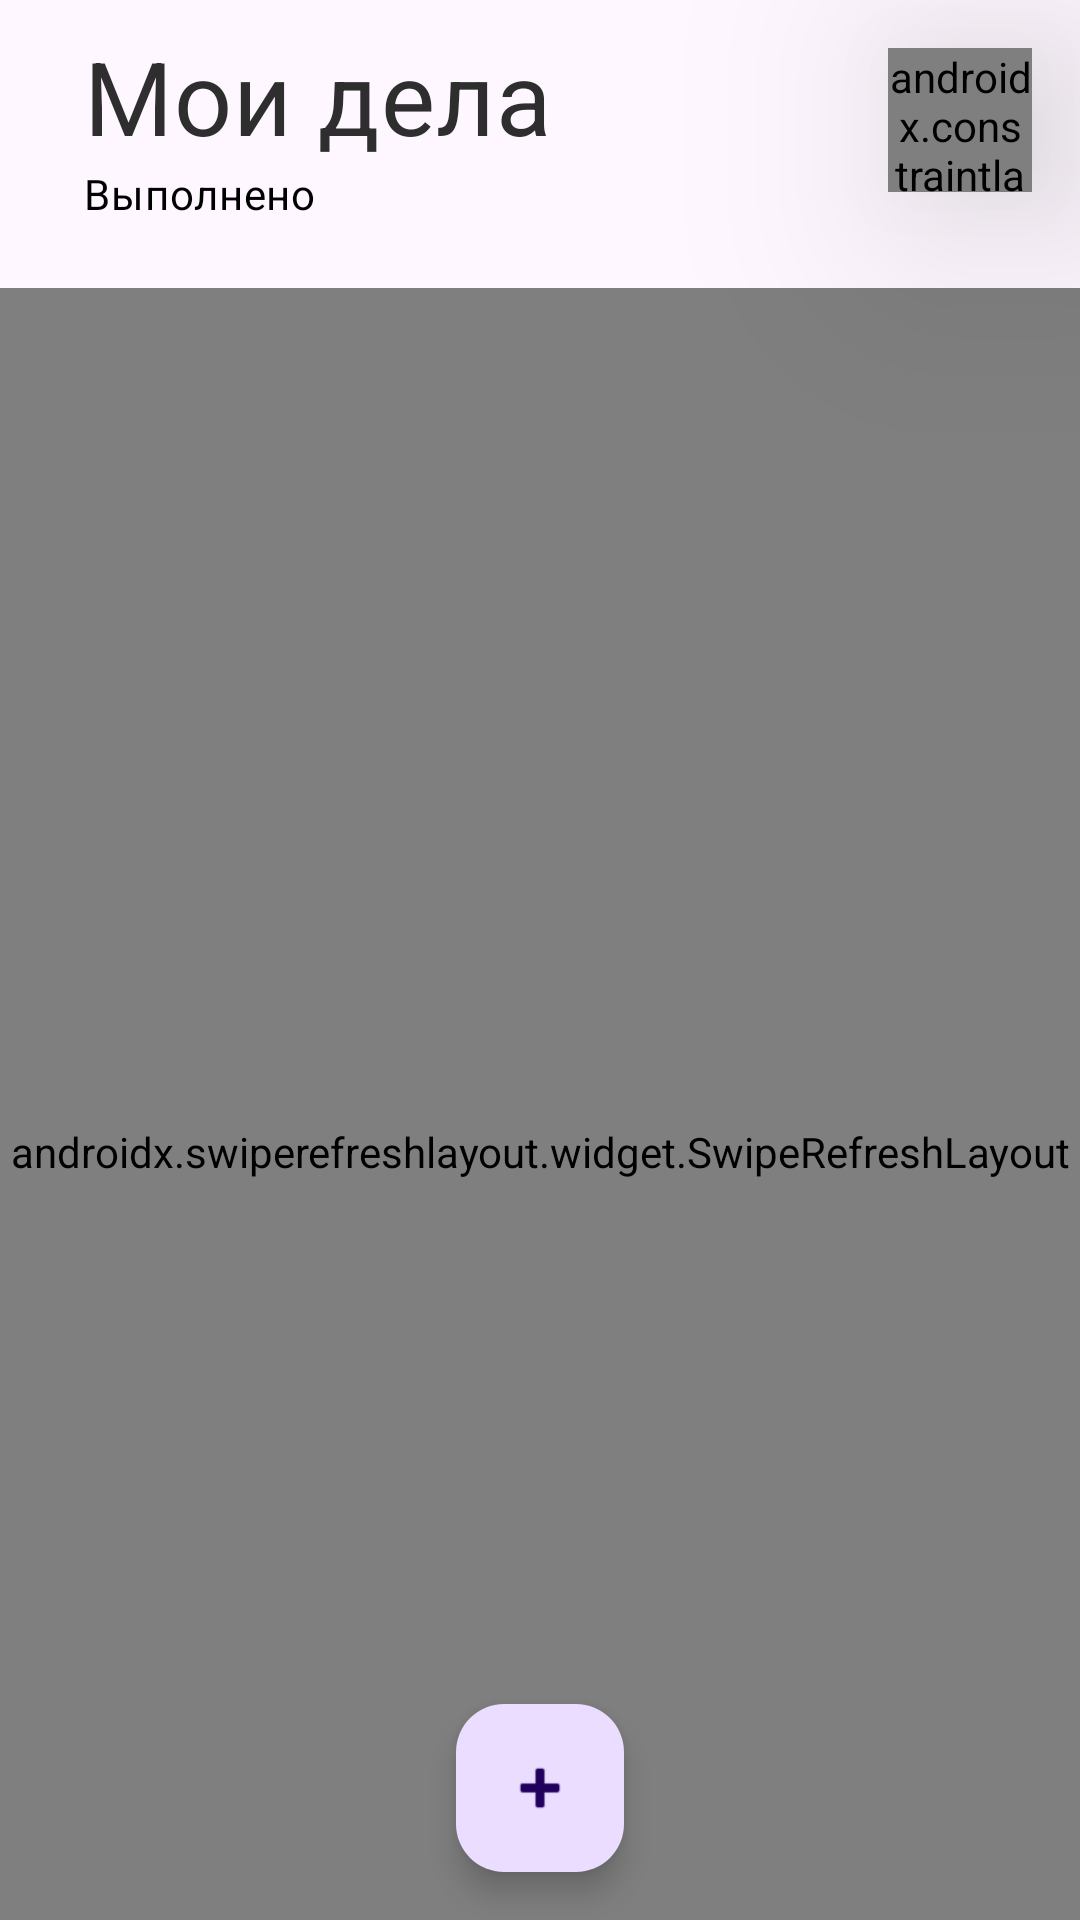

Named icons in this screenshot (1080w x 1920h) and their centers, [x,y]:
Добавить новую задачу: [540,1788]
